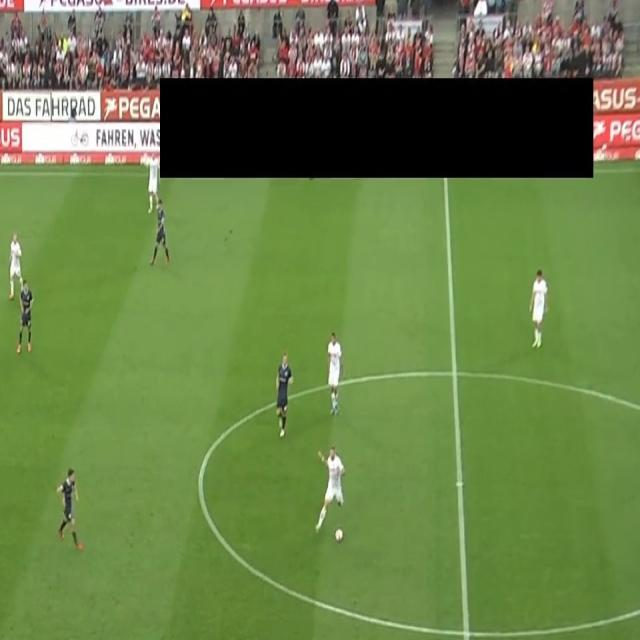ball: (334, 526, 344, 544)
